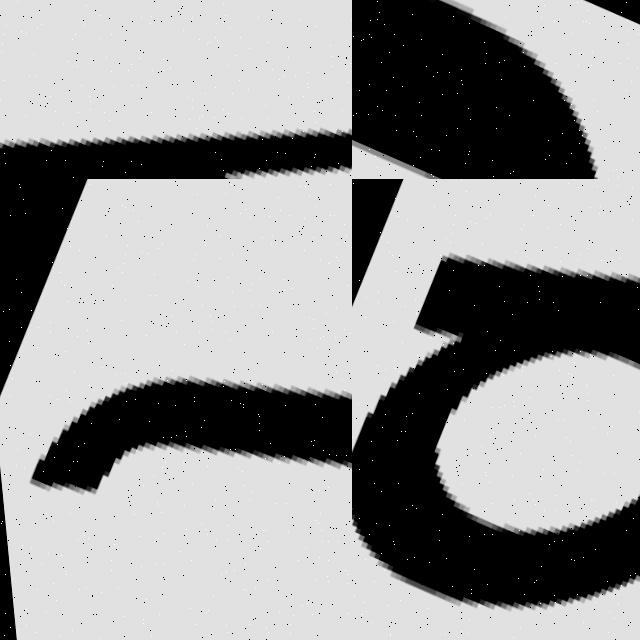D: (352, 179, 640, 640)
J: (0, 190, 352, 640)
O: (352, 0, 589, 179)
W: (0, 0, 352, 179)
